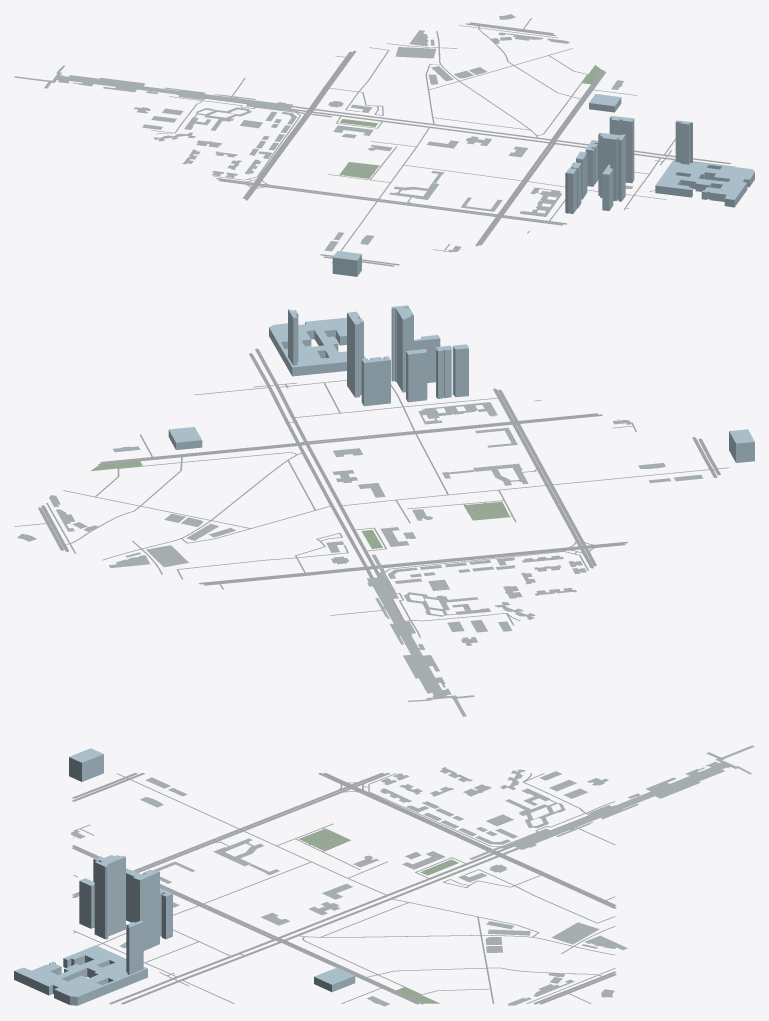
Rendered from -14_4-known-coarse.glb.
3 views of the same model, one above another, from view 1: azimuth 30°, elevation 25°; view 2: azimuth 150°, elevation 25°; view 3: azimuth 270°, elevation 25° (orthographic). The views are drawn at different scales.
Bounding box in the file's own units: 1136 × 147 × 1362.
